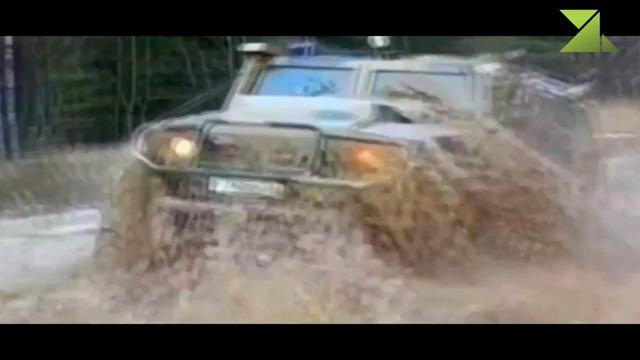MIL_HMMWV: (129, 41, 596, 271)
